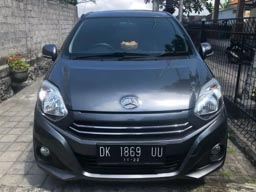plat: (99, 144, 164, 157)
